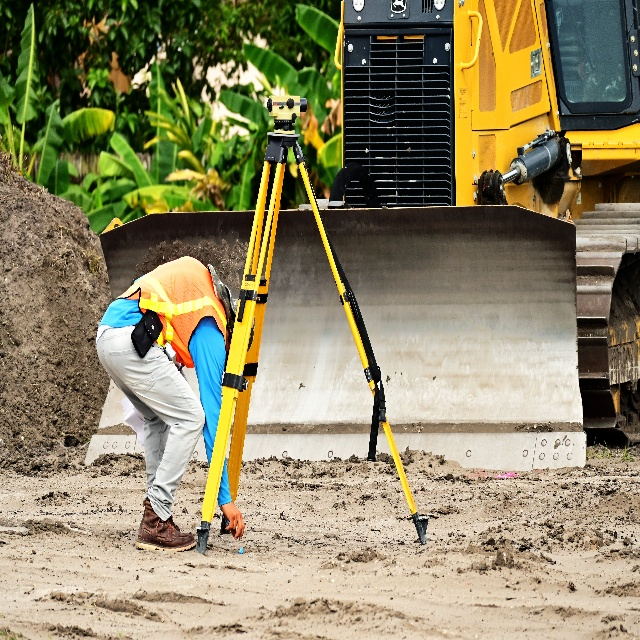Sin_guantes: (221, 500, 245, 540)
